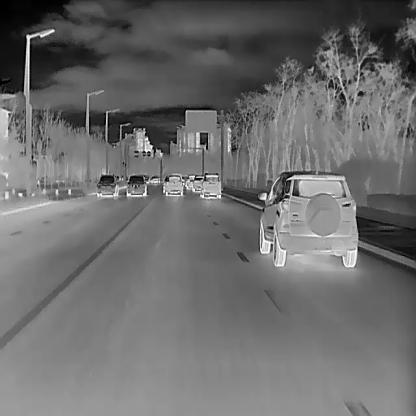car: (258, 169, 358, 267), (199, 172, 220, 198), (125, 174, 147, 196), (96, 174, 118, 196), (164, 173, 184, 195), (191, 174, 204, 191), (186, 173, 194, 188), (149, 174, 159, 183), (142, 174, 148, 183)
